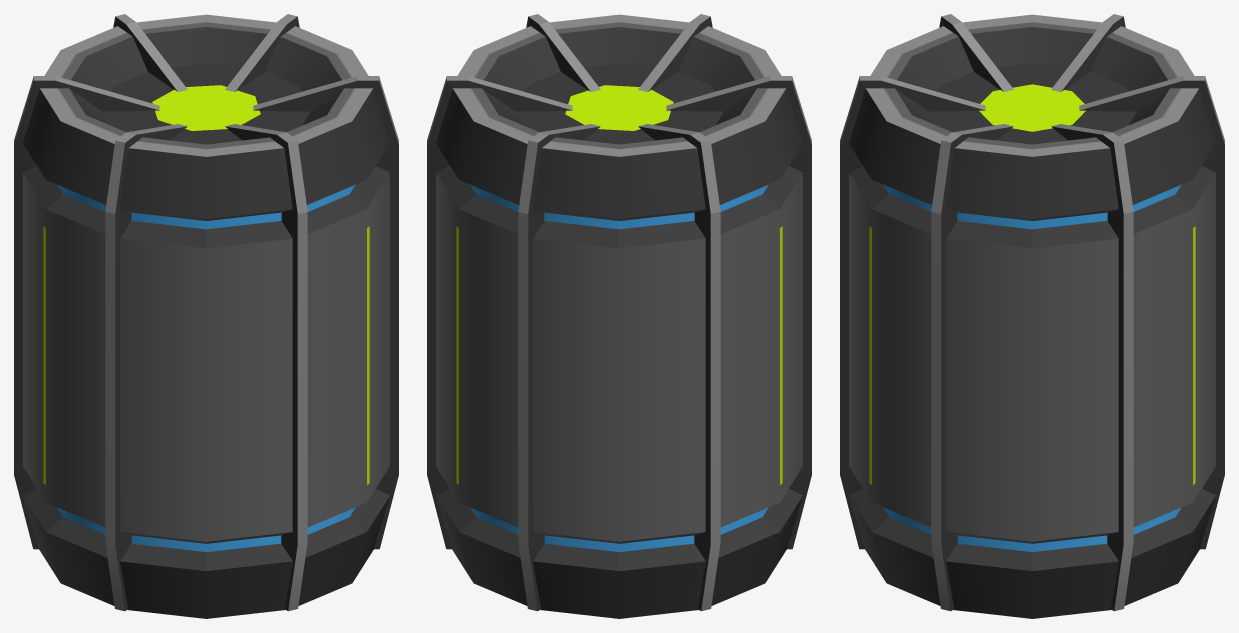
Rendered from Small_Barrel_SciFi.fbx.
3 views of the same model, side by side, from view 1: azimuth 30°, elevation 25°; view 2: azimuth 150°, elevation 25°; view 3: azimuth 270°, elevation 25° (orthographic).
Visible parts, largest first — view 1: Barrel_SciFi; view 2: Barrel_SciFi; view 3: Barrel_SciFi.
Part boxes in pixels (x1=…): Barrel_SciFi: x1=14, y1=14, x2=398, y2=618; Barrel_SciFi: x1=427, y1=14, x2=811, y2=618; Barrel_SciFi: x1=840, y1=14, x2=1224, y2=618.
Bounding box in the file's own units: 73.59 × 102 × 76.11.
